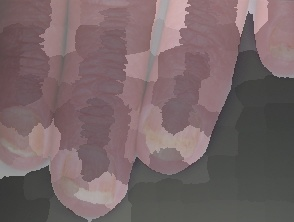Nail_psoriasis: (133, 95, 211, 173), (54, 153, 126, 213), (0, 99, 52, 164), (263, 16, 294, 65)
